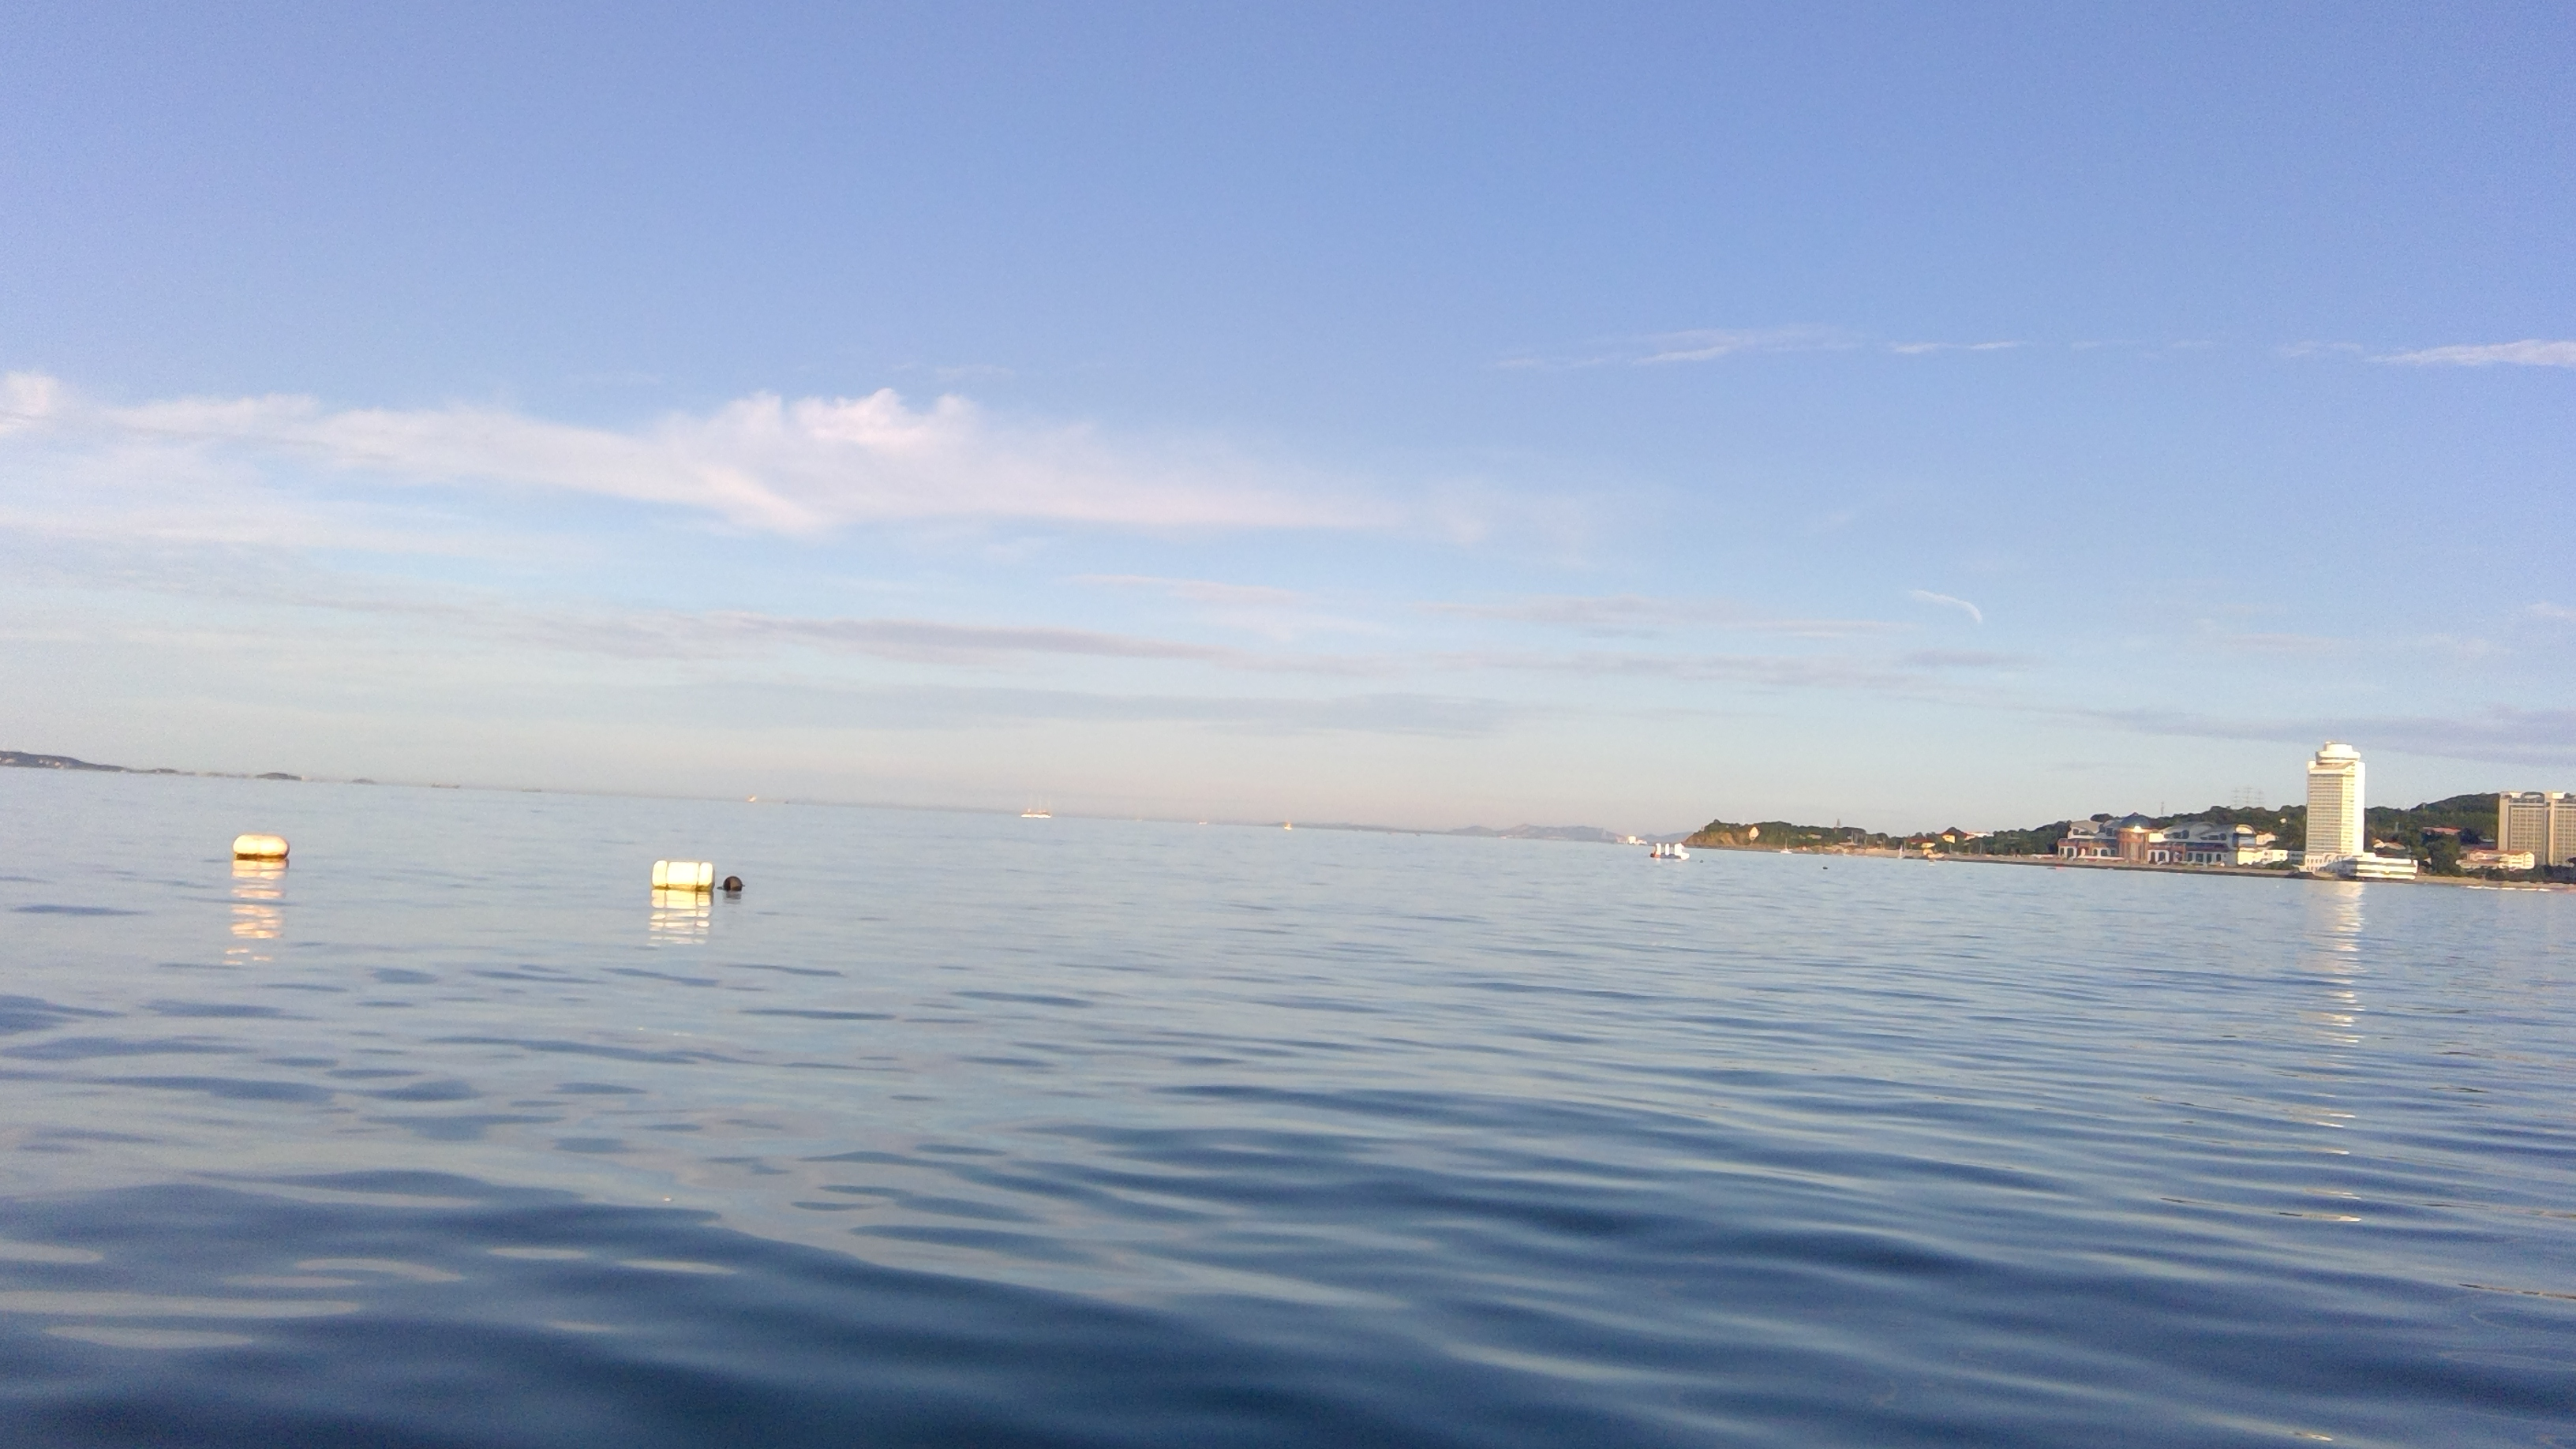ball: (637, 846, 752, 904), (223, 826, 288, 872)
